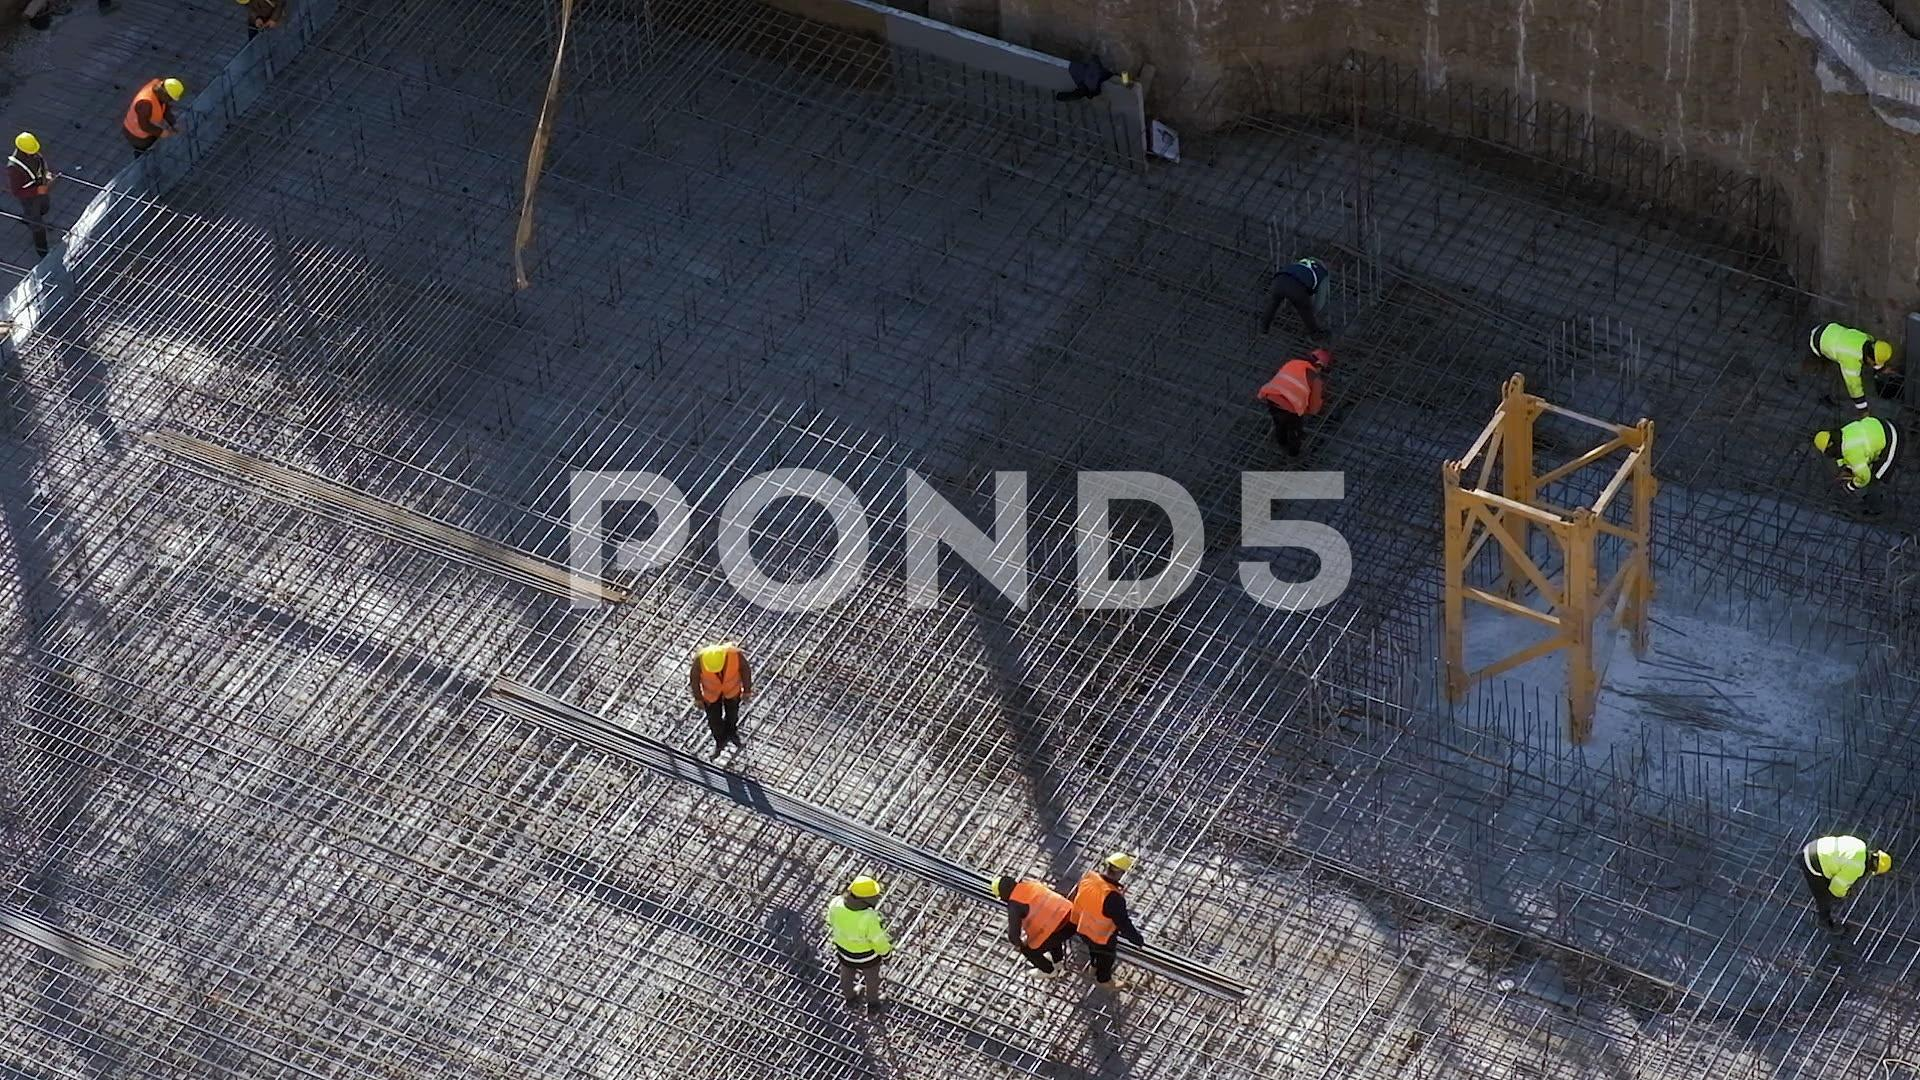hat: (1776, 406, 1839, 479), (843, 864, 893, 923), (1869, 318, 1909, 388), (1104, 831, 1153, 889), (1869, 828, 1908, 894), (1299, 334, 1351, 383), (156, 64, 206, 114), (8, 116, 54, 166), (693, 634, 738, 686), (976, 858, 1021, 908)
no hat: (1308, 244, 1343, 298)
no vest: (1783, 803, 1871, 931), (1798, 293, 1869, 424), (811, 891, 888, 1013), (1826, 409, 1901, 478), (1261, 246, 1326, 324), (1, 158, 66, 223)
vest: (1244, 354, 1323, 439), (1021, 863, 1073, 969), (681, 651, 746, 729), (1073, 871, 1121, 978), (119, 79, 169, 164)
